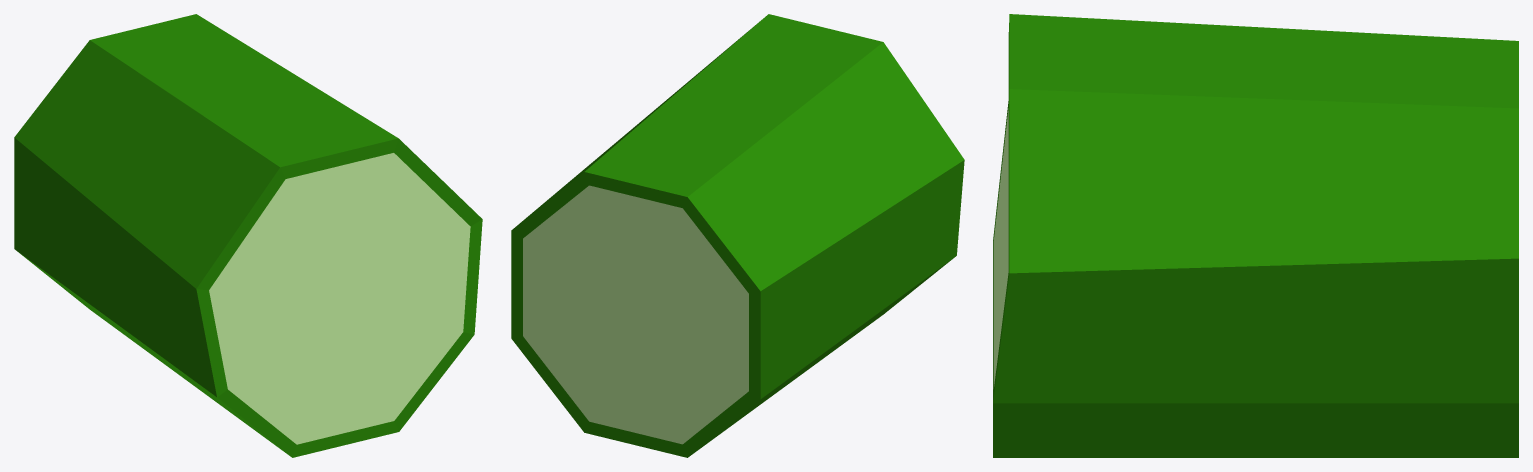
Rendered from cucumber02.gltf.
3 views of the same model, side by side, from view 1: azimuth 30°, elevation 25°; view 2: azimuth 150°, elevation 25°; view 3: azimuth 270°, elevation 25° (orthographic). The views are drawn at different scales.
Visible parts, largest first — view 1: Cylinder; view 2: Cylinder; view 3: Cylinder.
Boxes of the visible parts, x1,y1,x2,y2 form: Cylinder: [14, 14, 482, 457]; Cylinder: [511, 14, 964, 457]; Cylinder: [993, 14, 1518, 457].
Bounding box in the file's own units: 0.0554 × 0.0531 × 0.068.
1 material, 1 textured.
